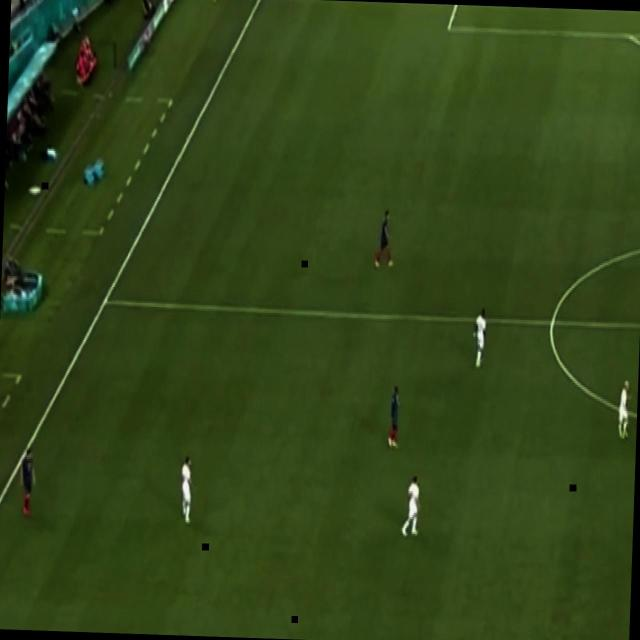player-white: (372, 205, 396, 272), (399, 474, 421, 538), (177, 452, 195, 526), (20, 446, 38, 516), (385, 384, 401, 452), (616, 378, 632, 442), (472, 308, 488, 370)
